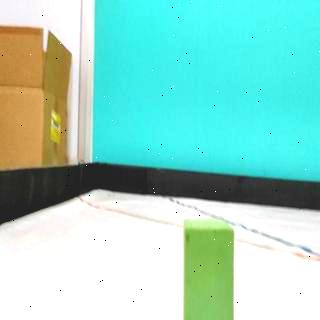greenbox: (182, 217, 236, 320)
